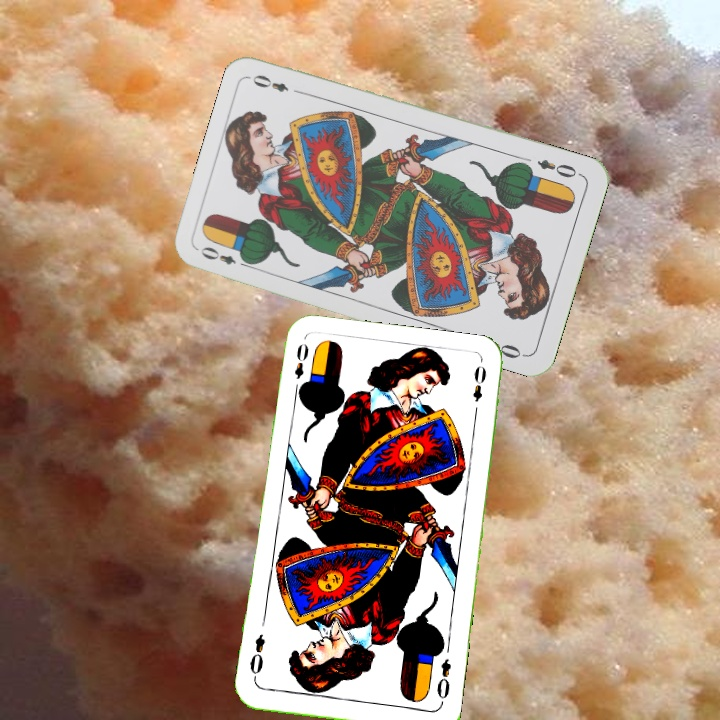EO: (197, 242, 253, 271), (533, 155, 584, 181), (290, 339, 311, 397), (433, 654, 453, 701)
